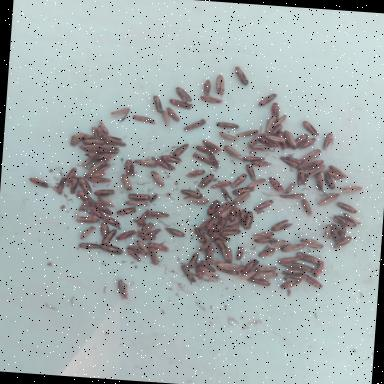pbw: (252, 91, 277, 108), (28, 174, 54, 190), (328, 164, 353, 180), (317, 191, 341, 207), (238, 257, 260, 274), (114, 278, 130, 300), (332, 213, 357, 227), (76, 175, 94, 194), (232, 65, 249, 85), (82, 168, 110, 180), (136, 222, 157, 238), (300, 147, 321, 163), (332, 234, 352, 250), (253, 197, 274, 212), (295, 251, 319, 264), (166, 98, 192, 110), (280, 276, 302, 290), (100, 214, 122, 228), (270, 218, 292, 232), (192, 151, 214, 165), (266, 176, 284, 193), (302, 119, 320, 136), (180, 264, 196, 283), (231, 190, 250, 206), (179, 186, 204, 198), (230, 171, 247, 188), (174, 86, 192, 102), (300, 237, 324, 249), (280, 240, 304, 252), (278, 155, 300, 168), (305, 163, 324, 178), (222, 144, 242, 158), (146, 245, 160, 265), (93, 201, 113, 215), (141, 227, 161, 241), (153, 158, 176, 170), (301, 158, 324, 170), (146, 241, 171, 252), (101, 227, 117, 244), (197, 172, 214, 188), (124, 247, 142, 262), (282, 130, 297, 148), (336, 201, 358, 213), (288, 261, 312, 272), (322, 132, 334, 154), (162, 226, 186, 237), (236, 127, 260, 138), (64, 161, 76, 183), (98, 244, 124, 254), (246, 276, 272, 286), (252, 270, 278, 280), (68, 131, 84, 147), (172, 142, 188, 158), (80, 224, 96, 240), (270, 112, 286, 128), (150, 170, 166, 186), (310, 260, 324, 278), (76, 190, 94, 204), (210, 178, 231, 190), (87, 157, 105, 171), (206, 198, 220, 216), (86, 204, 104, 218), (131, 114, 156, 124), (112, 206, 137, 216), (126, 192, 153, 201), (246, 176, 266, 188), (198, 267, 218, 279), (338, 184, 362, 194), (341, 212, 361, 224), (238, 268, 258, 280), (304, 276, 324, 288), (134, 238, 150, 253), (116, 228, 136, 240), (298, 136, 315, 150), (157, 154, 183, 163), (122, 158, 135, 176), (299, 198, 312, 216), (214, 74, 225, 95), (232, 184, 255, 194), (264, 114, 276, 133), (201, 138, 220, 150), (54, 176, 66, 195), (198, 214, 212, 230), (119, 174, 133, 190), (192, 226, 206, 242), (136, 208, 149, 225), (252, 230, 274, 240), (200, 94, 222, 104), (76, 215, 100, 224), (258, 246, 276, 258), (217, 262, 244, 270), (109, 106, 130, 116), (276, 255, 297, 265), (165, 107, 180, 121), (217, 130, 238, 140), (186, 167, 205, 178), (216, 200, 232, 213), (219, 247, 232, 263), (195, 144, 218, 153), (244, 163, 256, 180), (151, 95, 163, 112), (314, 172, 324, 192), (95, 144, 120, 152), (128, 244, 146, 255), (296, 168, 307, 186), (214, 237, 228, 251), (218, 186, 232, 200), (184, 196, 208, 204), (324, 174, 336, 190), (324, 168, 340, 180), (96, 196, 115, 206), (159, 109, 170, 126), (199, 260, 216, 271), (87, 176, 110, 184), (242, 154, 265, 162), (246, 133, 260, 146), (84, 152, 110, 159), (122, 199, 148, 206), (329, 223, 339, 241), (258, 138, 278, 147), (188, 250, 198, 268), (213, 232, 231, 242), (243, 210, 253, 228), (205, 216, 216, 232), (269, 238, 285, 249), (148, 210, 170, 218), (98, 222, 109, 238), (262, 134, 284, 142), (254, 264, 276, 272), (82, 138, 104, 146), (280, 267, 302, 275), (217, 266, 239, 274), (270, 101, 280, 118), (218, 206, 231, 219), (98, 120, 110, 134), (70, 172, 78, 193), (133, 159, 154, 167), (76, 198, 88, 212), (215, 216, 227, 230), (294, 132, 308, 144), (249, 144, 272, 151), (94, 188, 114, 196), (96, 162, 112, 172), (322, 223, 332, 239), (284, 272, 310, 278), (278, 192, 304, 198), (78, 156, 92, 167), (76, 242, 98, 249), (227, 205, 236, 222), (284, 182, 296, 194), (202, 231, 212, 245), (253, 236, 273, 243), (205, 246, 215, 260), (95, 148, 118, 154), (203, 79, 211, 96), (226, 217, 241, 226), (216, 122, 238, 128), (250, 160, 272, 166), (78, 143, 99, 149), (222, 228, 240, 235), (204, 258, 224, 264), (338, 225, 346, 240), (223, 224, 239, 231), (239, 208, 246, 224), (196, 266, 204, 280), (96, 125, 104, 138), (197, 242, 208, 251), (236, 246, 243, 260), (90, 126, 98, 136), (82, 132, 94, 138), (82, 147, 96, 152)
